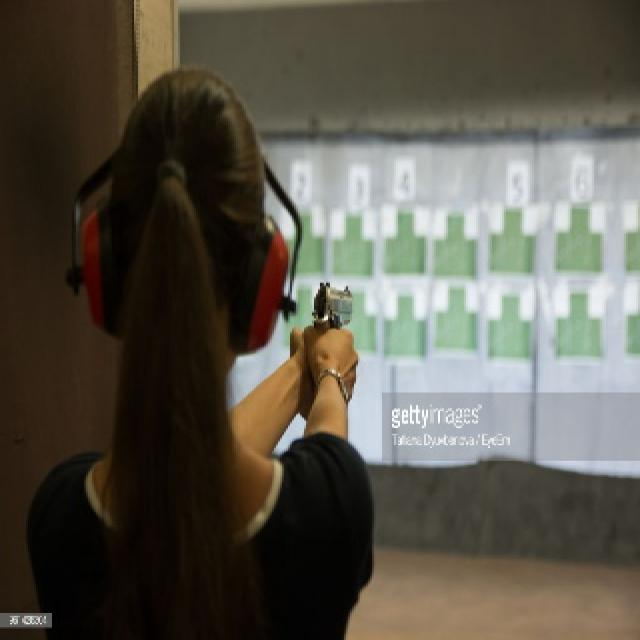handgun: (310, 276, 356, 336)
